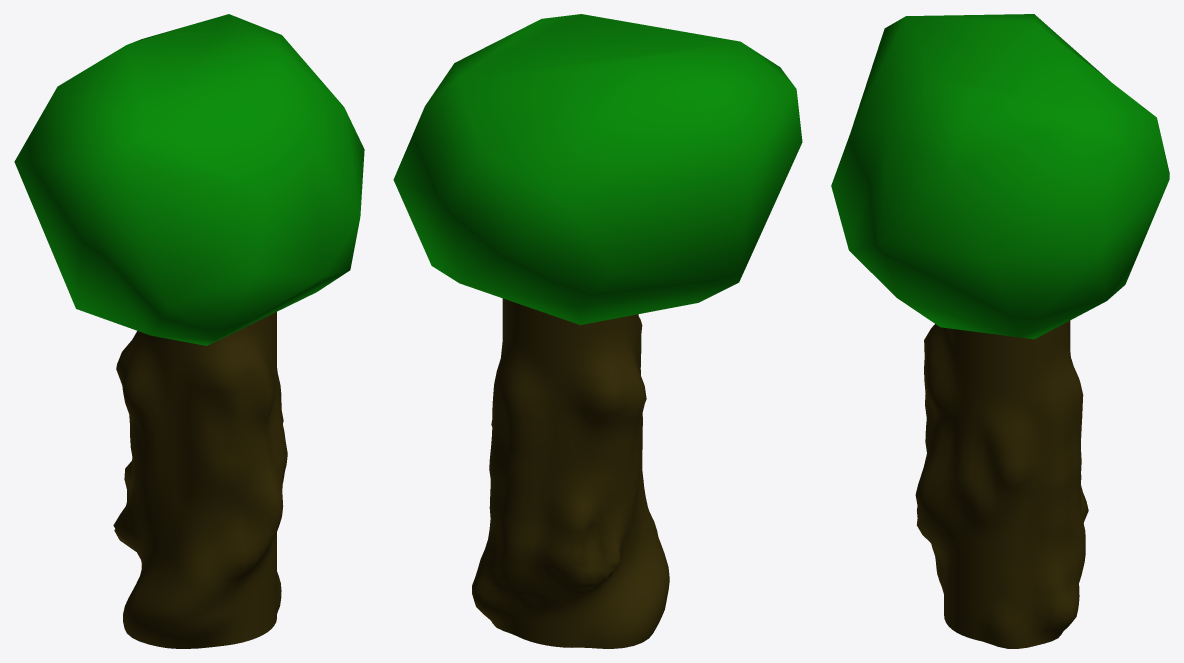
File: Tree 3.fbx
3 renders of one model, left to right at view 1: azimuth 30°, elevation 25°; view 2: azimuth 150°, elevation 25°; view 3: azimuth 270°, elevation 25°, orthographic. The views are drawn at different scales.
Visible parts, largest first — view 1: Cylinder001; view 2: Cylinder001; view 3: Cylinder001.
Part boxes in pixels (<box>): Cylinder001: <box>14,14,364,648</box>; Cylinder001: <box>393,14,802,648</box>; Cylinder001: <box>831,14,1169,648</box>.
Bounding box in the file's own units: 31.5 × 52.51 × 28.8.
